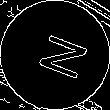N_W: (24, 27, 86, 83)
